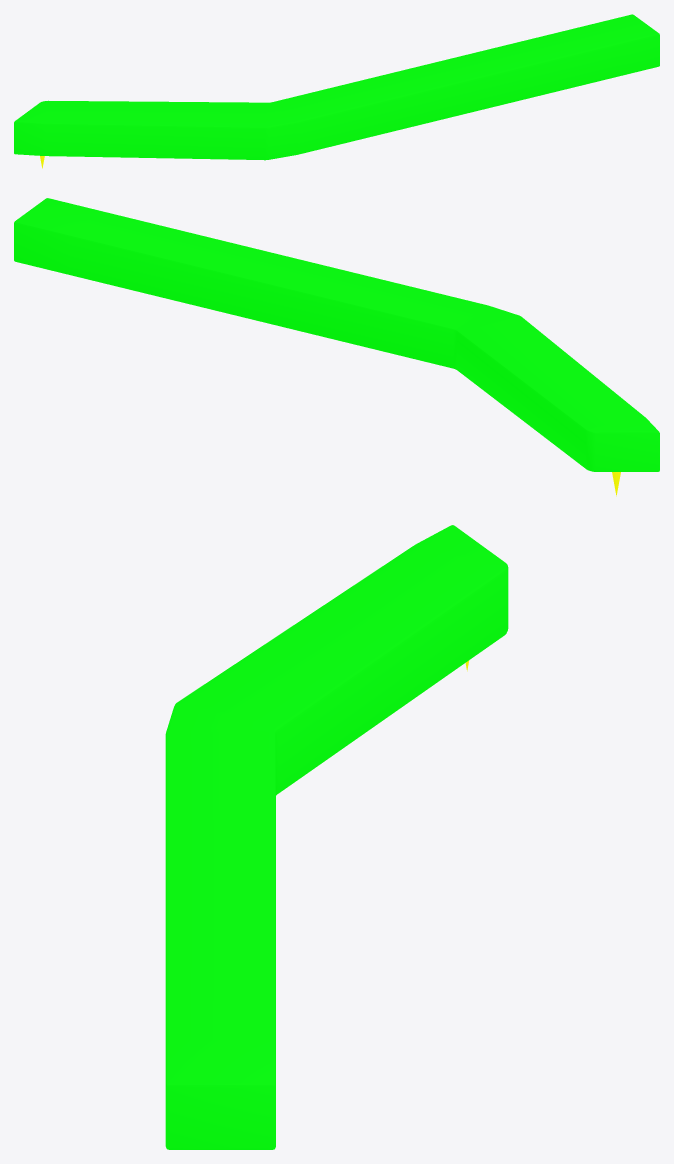
File: Tonabnehmer.fbx
3 views of the same model, one above another, from view 1: azimuth 30°, elevation 25°; view 2: azimuth 150°, elevation 25°; view 3: azimuth 270°, elevation 25° (orthographic). The views are drawn at different scales.
Parts seen in each view (by area): view 1: Tonabnehmer_Export; view 2: Tonabnehmer_Export; view 3: Tonabnehmer_Export.
Boxes of the visible parts, left/top/right/bottom form: Tonabnehmer_Export: left=14, top=14, right=659, bottom=168; Tonabnehmer_Export: left=14, top=198, right=659, bottom=496; Tonabnehmer_Export: left=165, top=525, right=508, bottom=1149.
Size of the model in its own units: 36.06 by 3.51 by 9.3.
